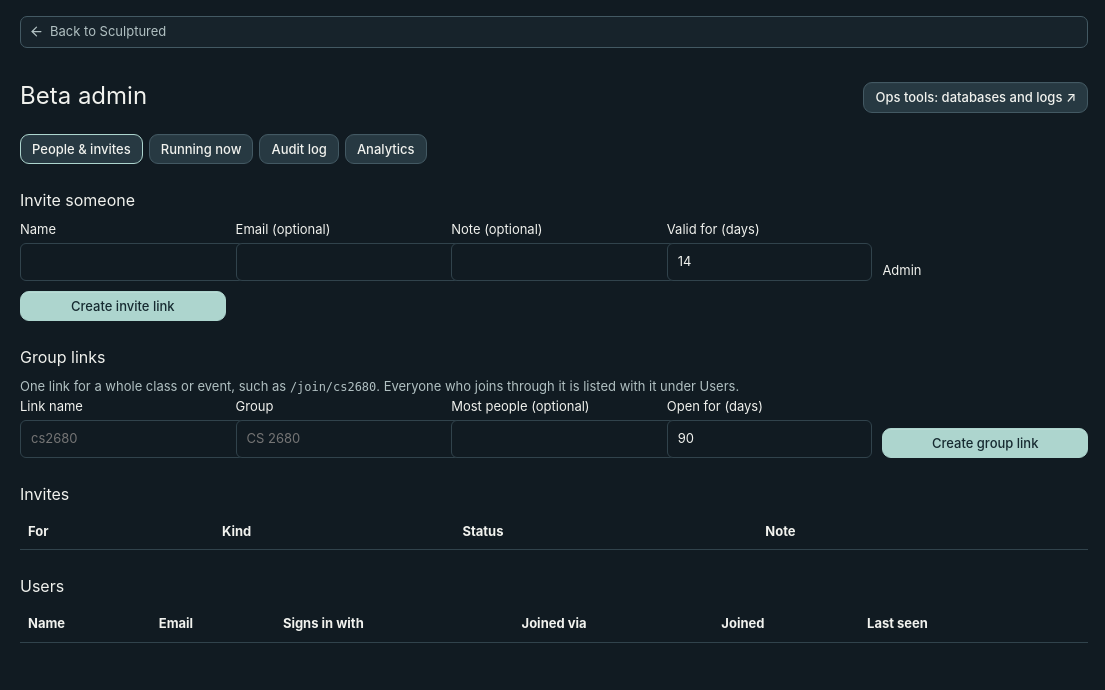
Scenario: the admin page creates an invite and shows its link once
Type "Ana" into the field labelled "Name" at (132, 262), box [20,243,244,281]
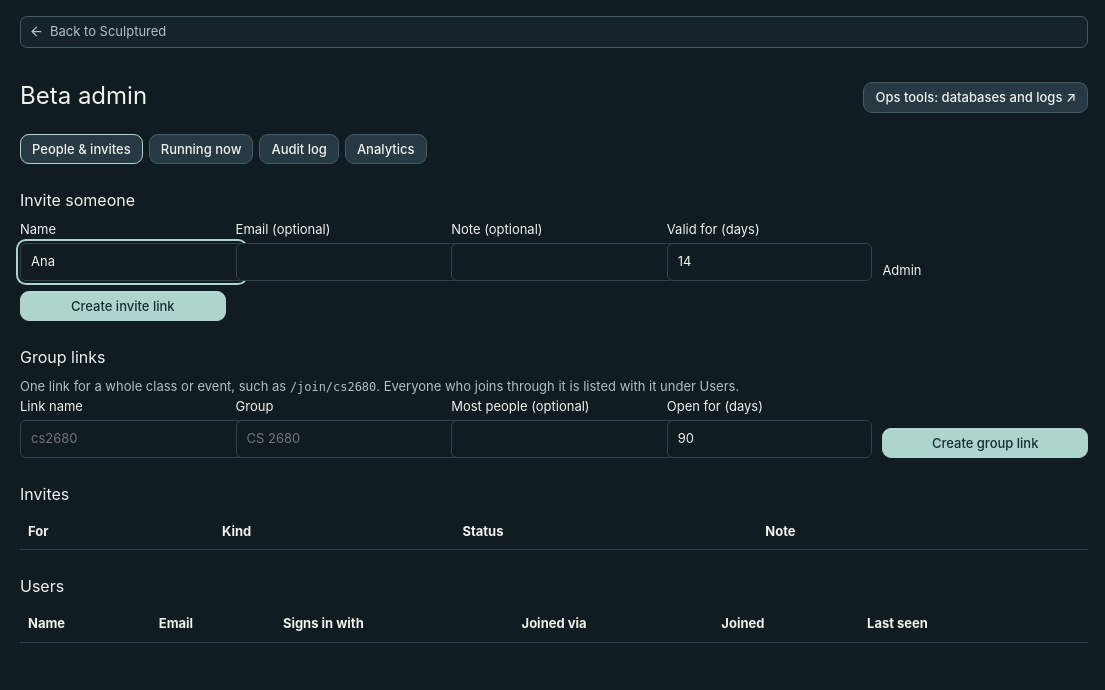
Click the button "Create invite link" at (123, 306), box [20,291,226,321]
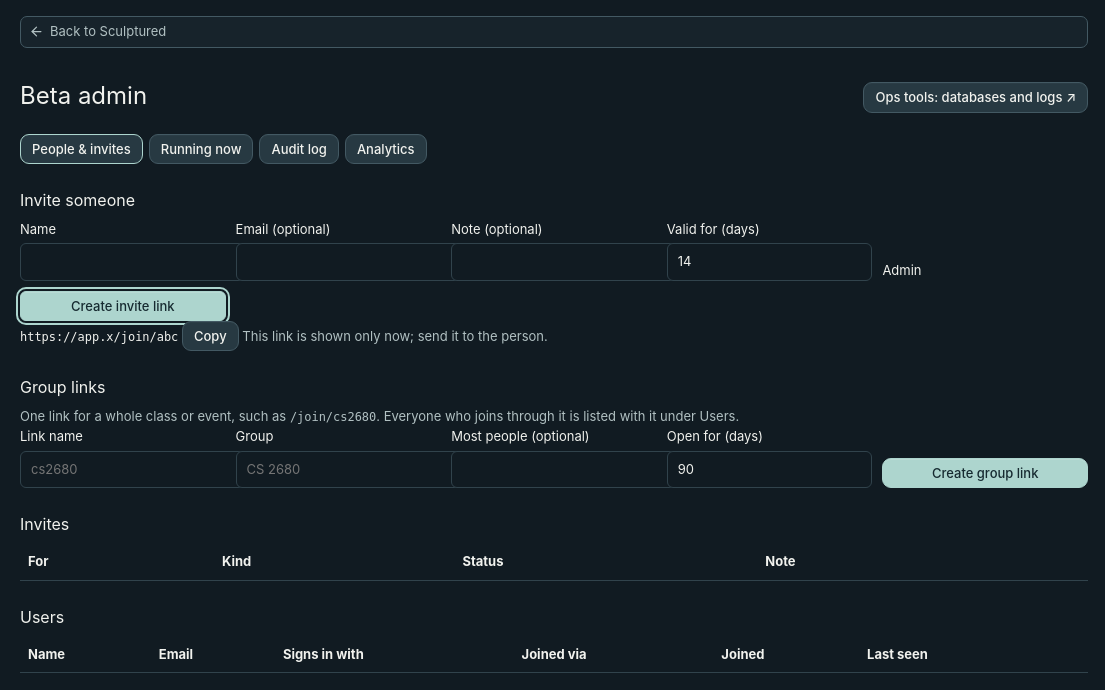
Now the text "https://app.x/join/abc" is shown, box [20,330,178,344]
Now the text "This link is shown only now; send it to the person." is shown, box [242,328,548,344]
